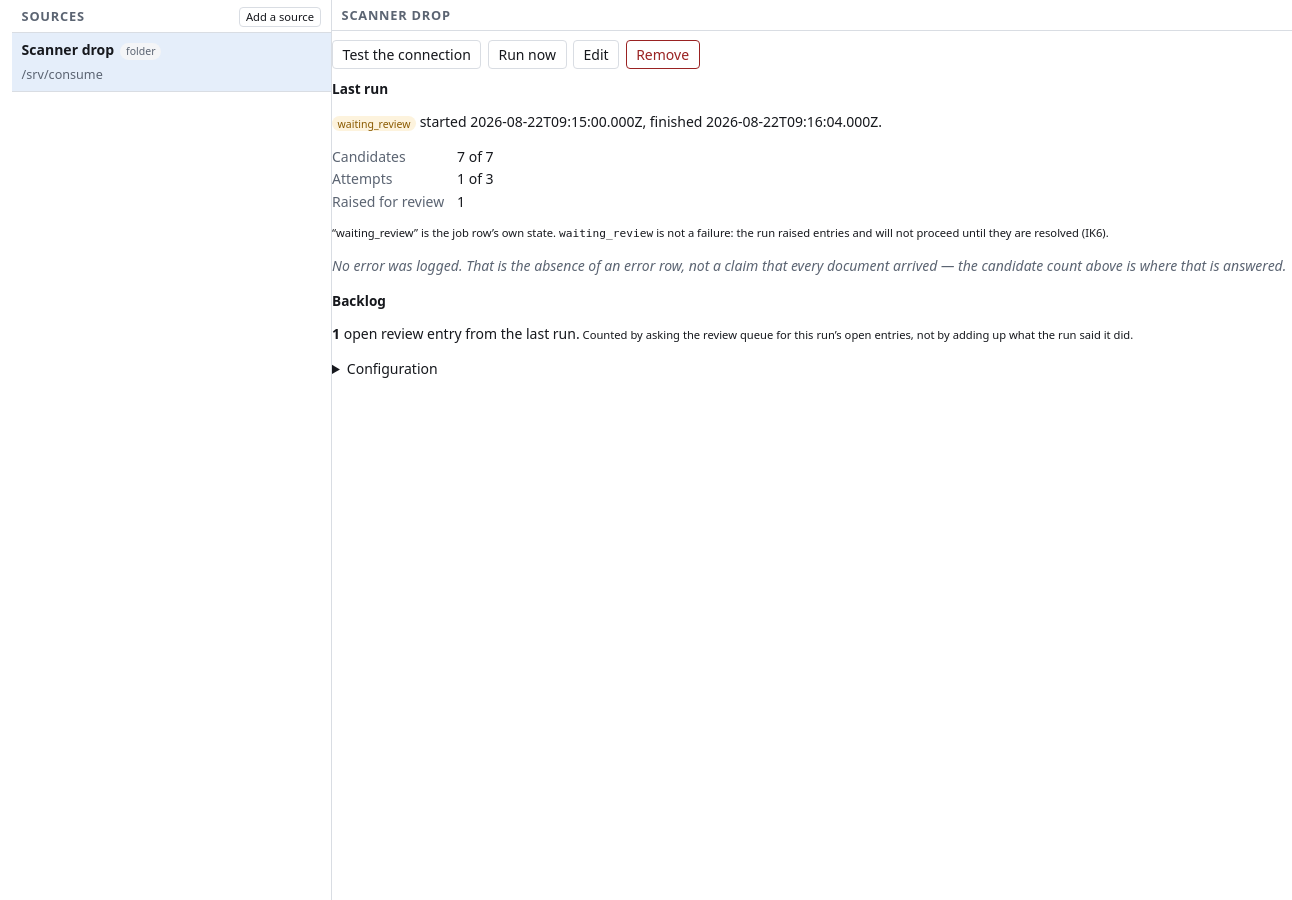
Scenario: the sources screen › starts a run as a job rather than blocking on it
expect the element with test id "source-detail" is shown: met, box x1=332 y1=40 x2=1291 y2=379
Click the button "Run now" at [527, 55], box x1=488 y1=40 x2=566 y2=69
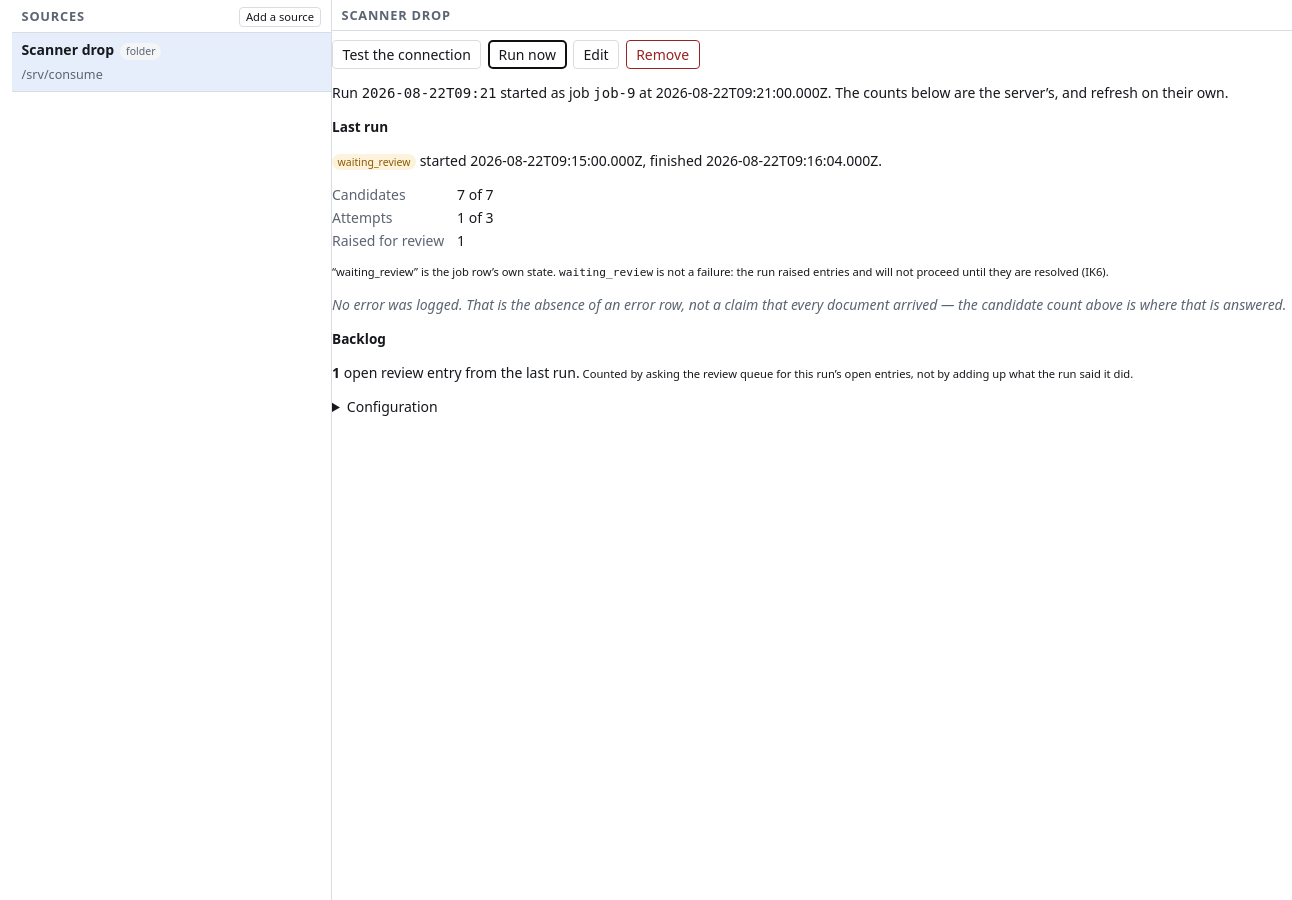
expect the text "started as job" shows "job-9": met, box x1=593 y1=85 x2=636 y2=101
